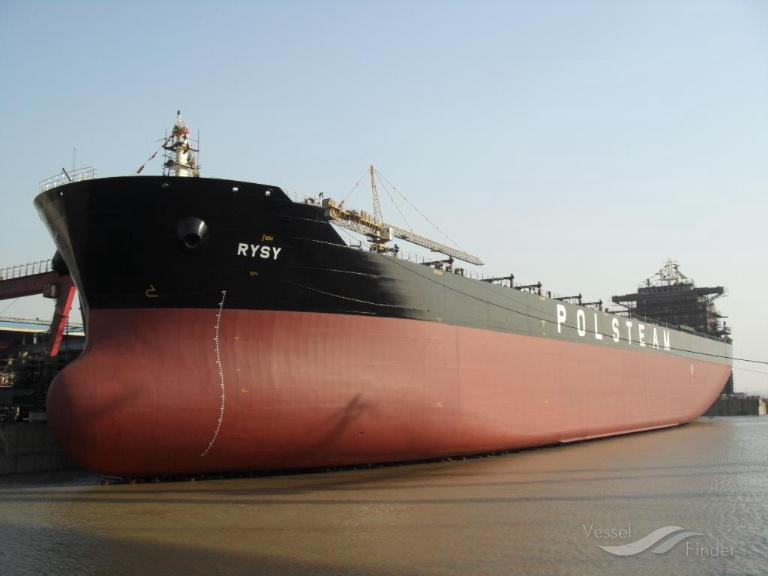OCR: (545, 295, 681, 360), (234, 238, 288, 266)
